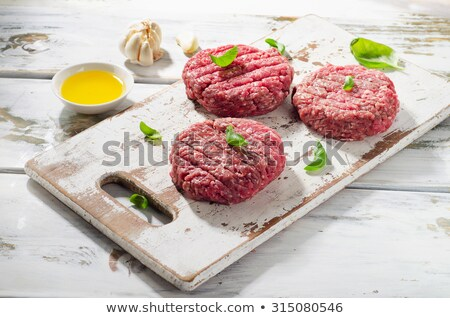ground_beef: (292, 53, 403, 147), (169, 117, 275, 206), (184, 44, 302, 122)
